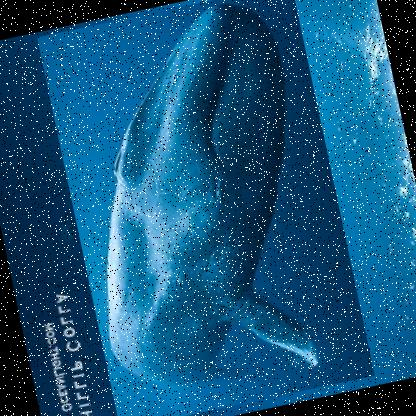blue_whale: (34, 0, 374, 415)
